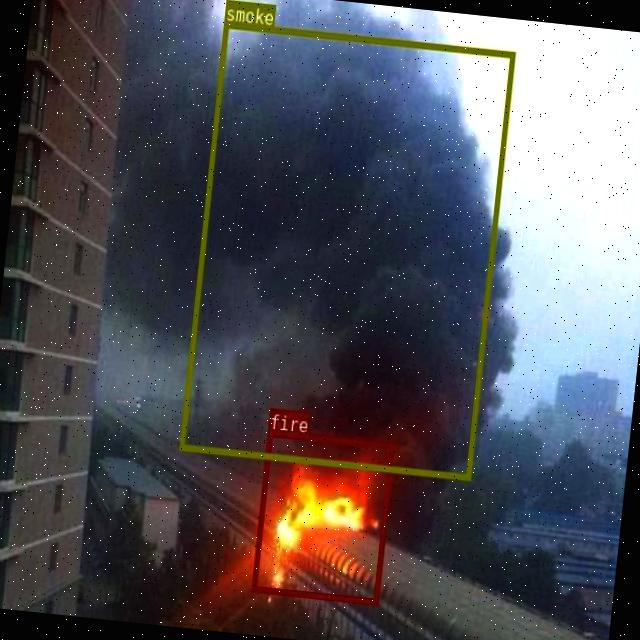fire: (251, 429, 394, 604)
smoke: (178, 21, 514, 480)
